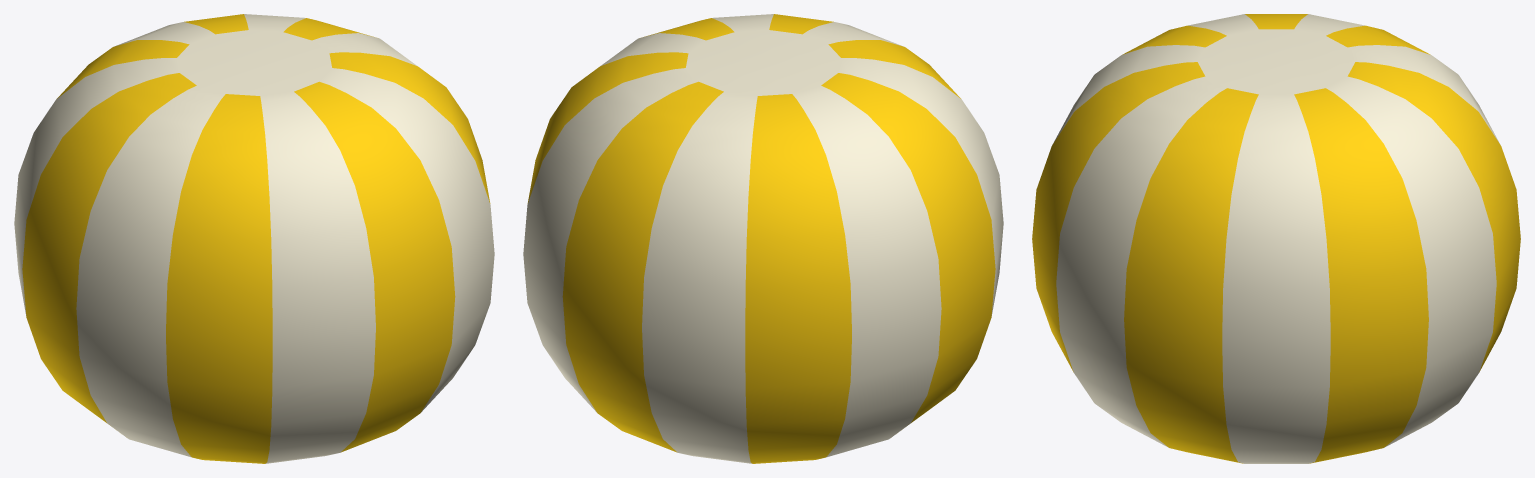
The model's file is candy_platform6.fbx.
3 views of the same model, side by side, from view 1: azimuth 30°, elevation 25°; view 2: azimuth 150°, elevation 25°; view 3: azimuth 270°, elevation 25° (orthographic).
Visible parts, largest first — view 1: candy_platform6; view 2: candy_platform6; view 3: candy_platform6.
Part boxes in pixels (x1,y1,x2,y2): candy_platform6: [14, 14, 494, 463]; candy_platform6: [523, 14, 1003, 463]; candy_platform6: [1032, 14, 1520, 463].
Bounding box in the file's own units: 109 × 89.06 × 111.
1 material, 1 textured.
